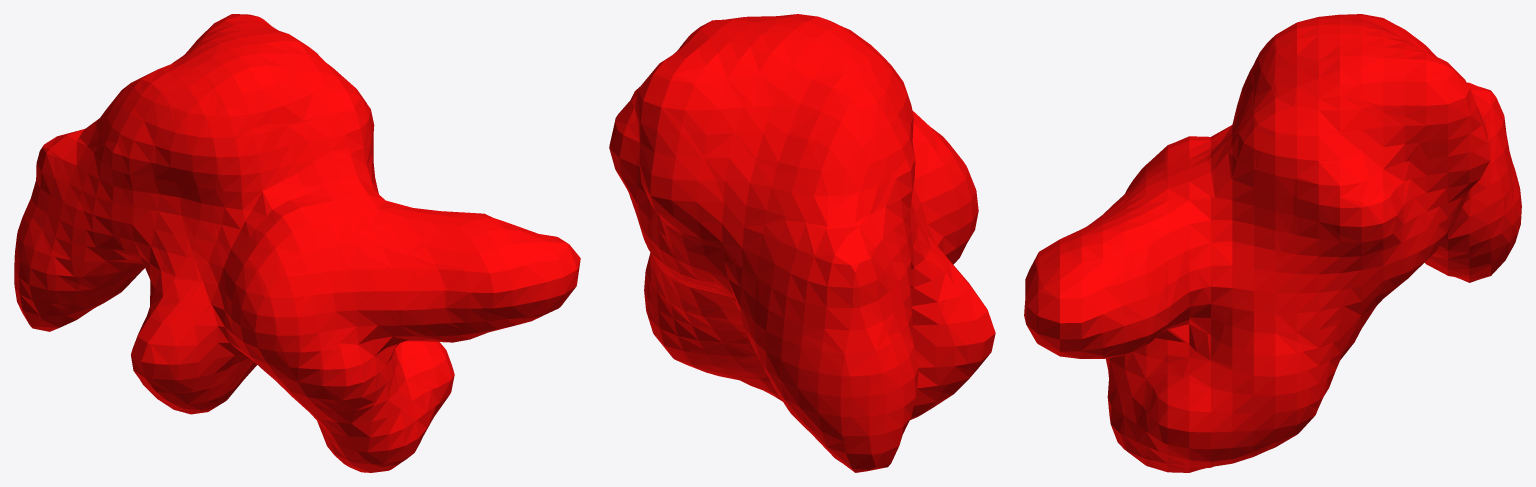
File: yajD_coarse.dae
3 views of the same model, side by side, from view 1: azimuth 30°, elevation 25°; view 2: azimuth 150°, elevation 25°; view 3: azimuth 270°, elevation 25° (orthographic). The views are drawn at different scales.
Parts seen in each view (by area): view 1: yajD; view 2: yajD; view 3: yajD.
Part boxes in pixels (x1,y1,x2,y2): yajD: (14, 14, 580, 472); yajD: (609, 14, 995, 472); yajD: (1024, 14, 1521, 472).
Size of the model in its own units: 45.25 by 43.99 by 48.35.
